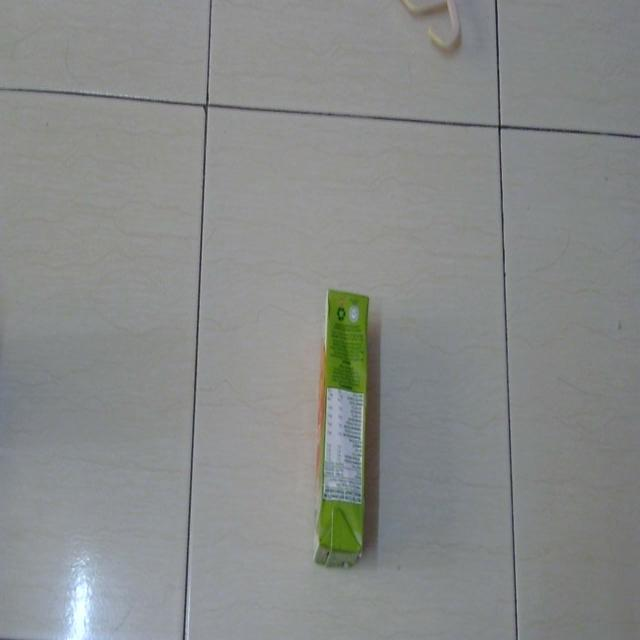plastic_laydown_90rotation: (305, 273, 386, 592)
